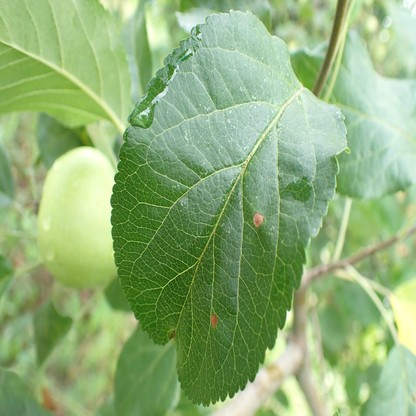frogeye_leaf_spot: (253, 214, 265, 226), (211, 314, 216, 328)
